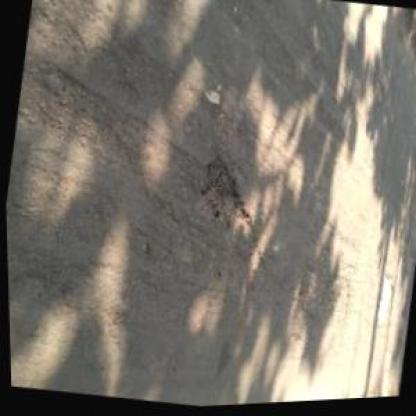pothole: (186, 151, 261, 240)
